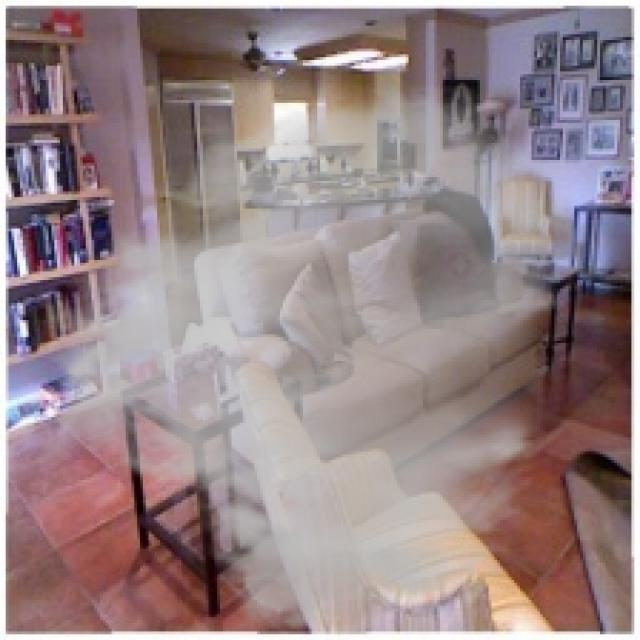smoke: (26, 80, 588, 637)
